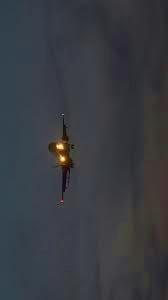Plane: (33, 108, 81, 216)
